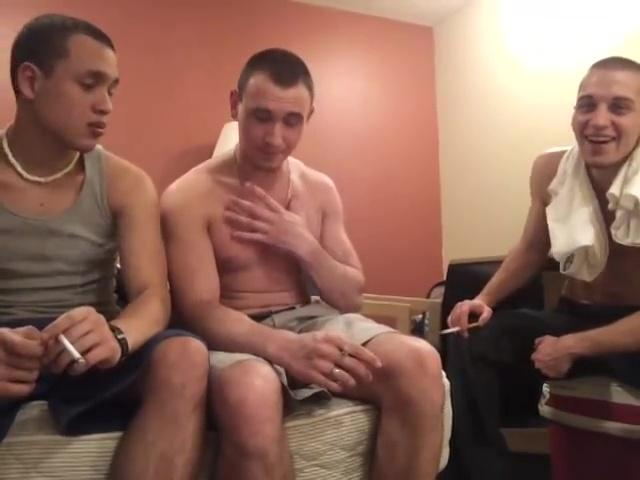cigarette: (59, 334, 85, 366), (440, 320, 483, 335)
